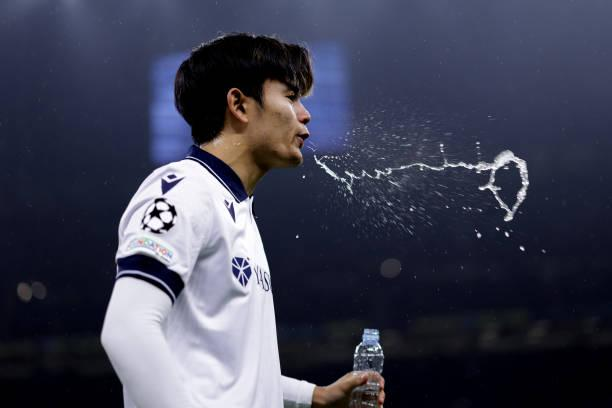Spitting: (147, 27, 395, 193)
